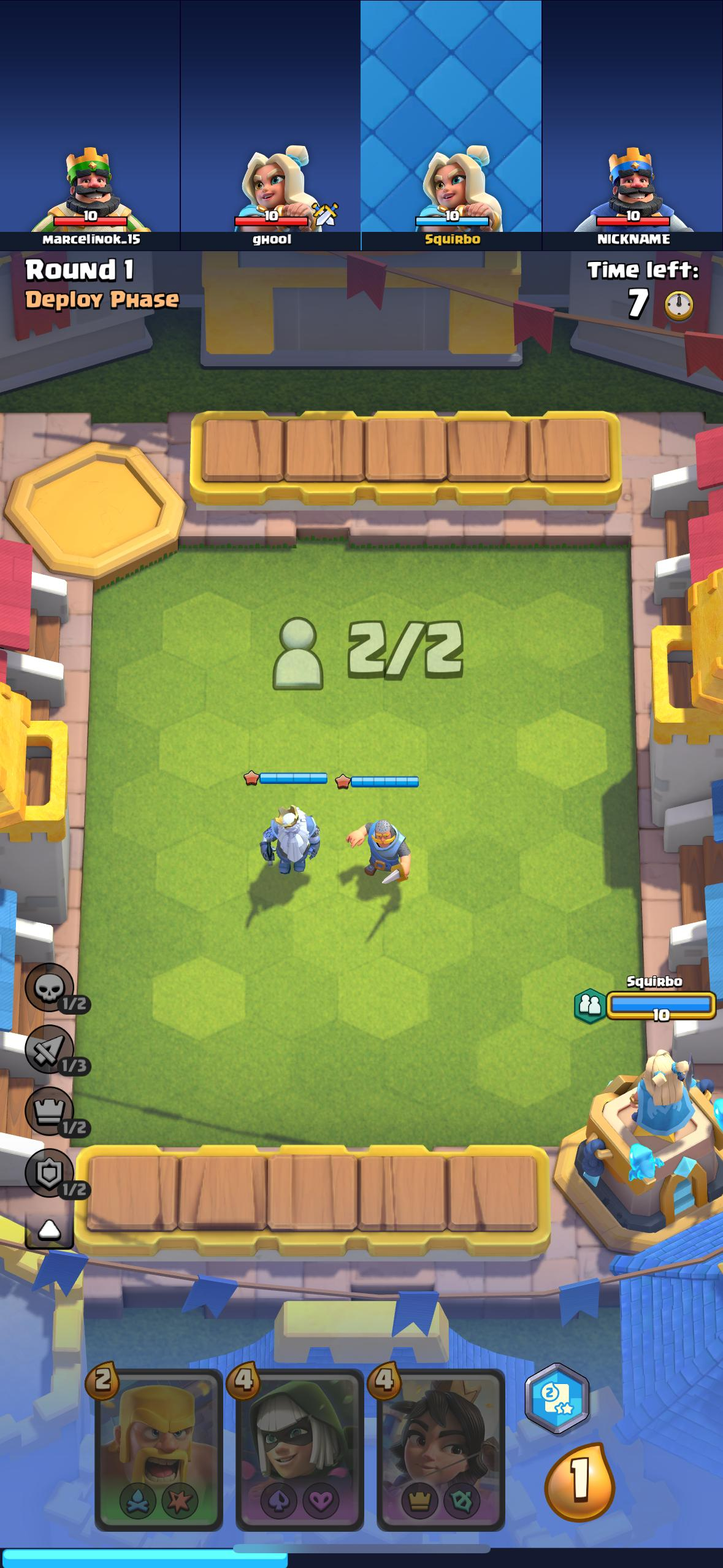ghost: (259, 803, 323, 879)
hand-bandit: (235, 1371, 360, 1527)
hand-barbarian: (97, 1374, 225, 1528)
hand-princess: (373, 1372, 505, 1530)
knight: (345, 810, 415, 885)
